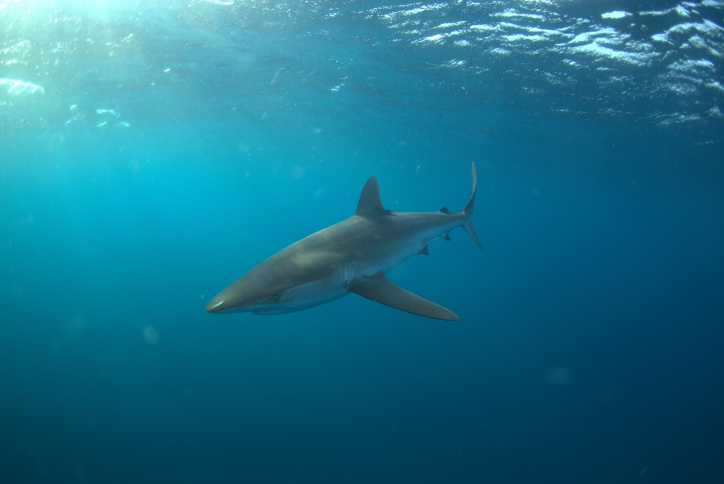Sedoso: (197, 155, 510, 333)
